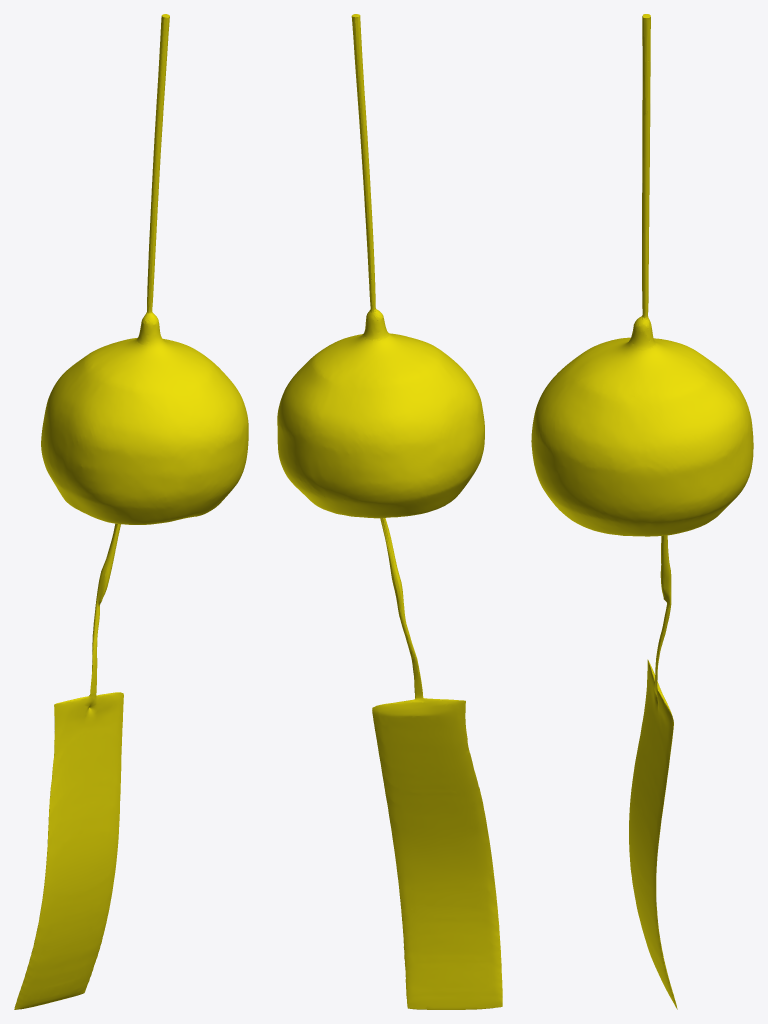
Rendered from WCharmDown.fbx.
3 renders of one model, left to right at view 1: azimuth 30°, elevation 25°; view 2: azimuth 150°, elevation 25°; view 3: azimuth 270°, elevation 25°, orthographic. The views are drawn at different scales.
Visible parts, largest first — view 1: model, model.002; view 2: model, model.002; view 3: model, model.002.
Boxes of the visible parts, bbox=[...] form: model: bbox=[41, 14, 248, 524]; model.002: bbox=[14, 523, 123, 1009]; model: bbox=[277, 14, 484, 518]; model.002: bbox=[372, 518, 502, 1009]; model: bbox=[531, 14, 753, 536]; model.002: bbox=[629, 535, 677, 1009].
Size of the model in its own units: 47.84 by 206 by 40.24.
